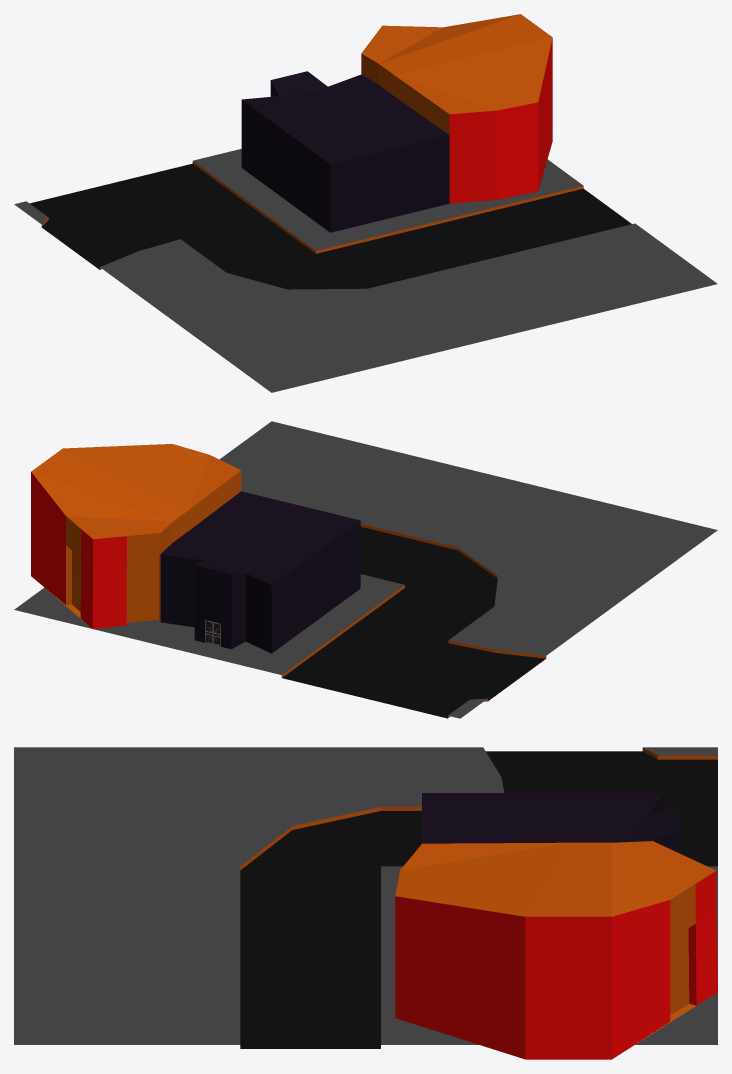
File: 05_carls_n.obj
3 views of the same model, one above another, from view 1: azimuth 30°, elevation 25°; view 2: azimuth 150°, elevation 25°; view 3: azimuth 270°, elevation 25° (orthographic). The views are drawn at different scales.
Visible parts, largest first — view 1: 05_carls_n_Grid.003; view 2: 05_carls_n_Grid.003; view 3: 05_carls_n_Grid.003.
Part boxes in pixels (x1,y1,x2,y2): 05_carls_n_Grid.003: [14, 14, 717, 392]; 05_carls_n_Grid.003: [14, 421, 717, 718]; 05_carls_n_Grid.003: [14, 747, 717, 1059].
Size of the model in its own units: 16.78 by 3.68 by 16.
Materials: 6 (1 with a texture image).
